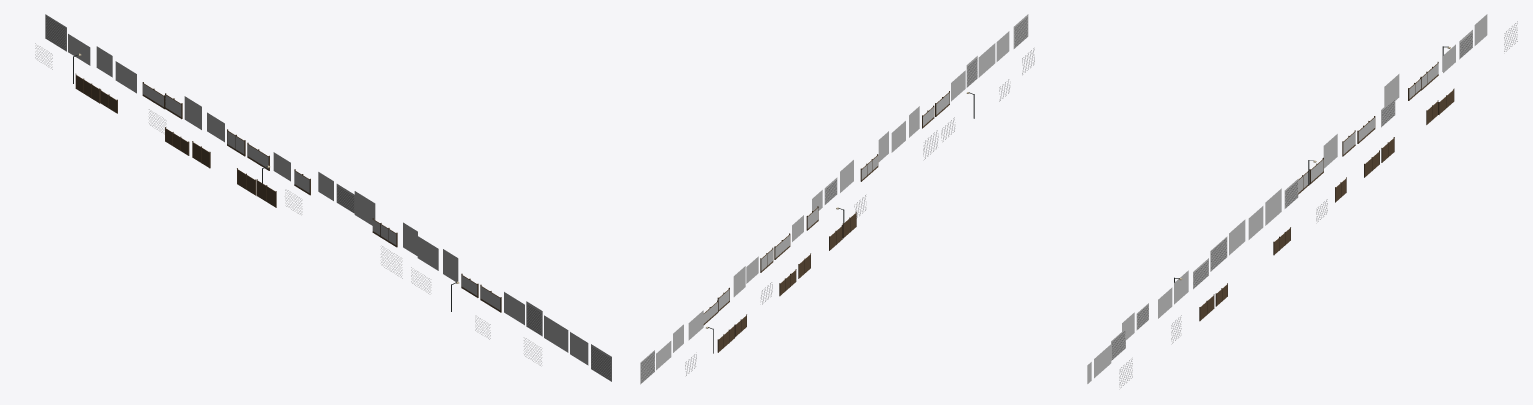
Rendered from balmy_lod0.glb.
3 views of the same model, side by side, from view 1: azimuth 30°, elevation 25°; view 2: azimuth 150°, elevation 25°; view 3: azimuth 330°, elevation 25° (orthographic). The views are drawn at different scales.
Parts seen in each view (by area): view 1: L0_mural, L0_wood, L0_metal; view 2: L0_mural, L0_wood, L0_metal; view 3: L0_mural, L0_wood, L0_metal.
Boxes of the visible parts, x1,y1,x2,y2 form: L0_mural: [45, 14, 611, 381]; L0_wood: [75, 73, 501, 312]; L0_metal: [35, 16, 610, 379]; L0_mural: [640, 14, 1028, 384]; L0_wood: [703, 91, 949, 352]; L0_metal: [641, 17, 1034, 382]; L0_mural: [1087, 14, 1487, 383]; L0_wood: [1199, 62, 1454, 321]; L0_metal: [1112, 21, 1517, 387].
Size of the model in its own units: 17.27 by 5.85 by 149.
